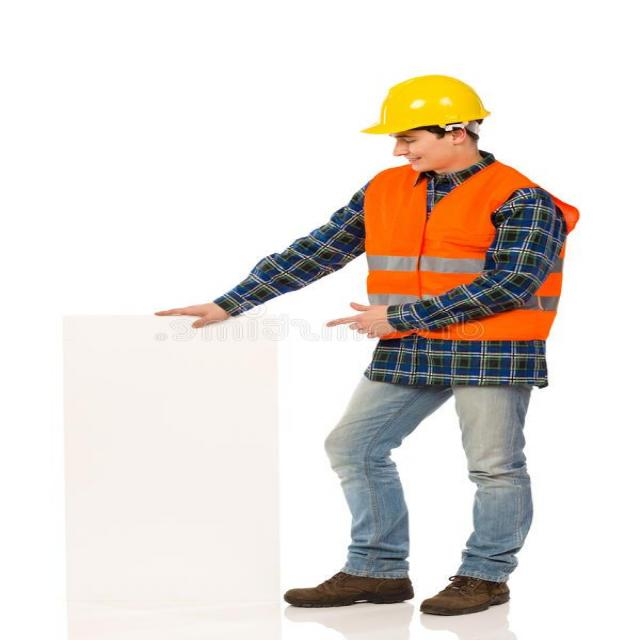Reflective-Jacket: (356, 163, 572, 342)
Safety-Helmet: (358, 72, 495, 137)
